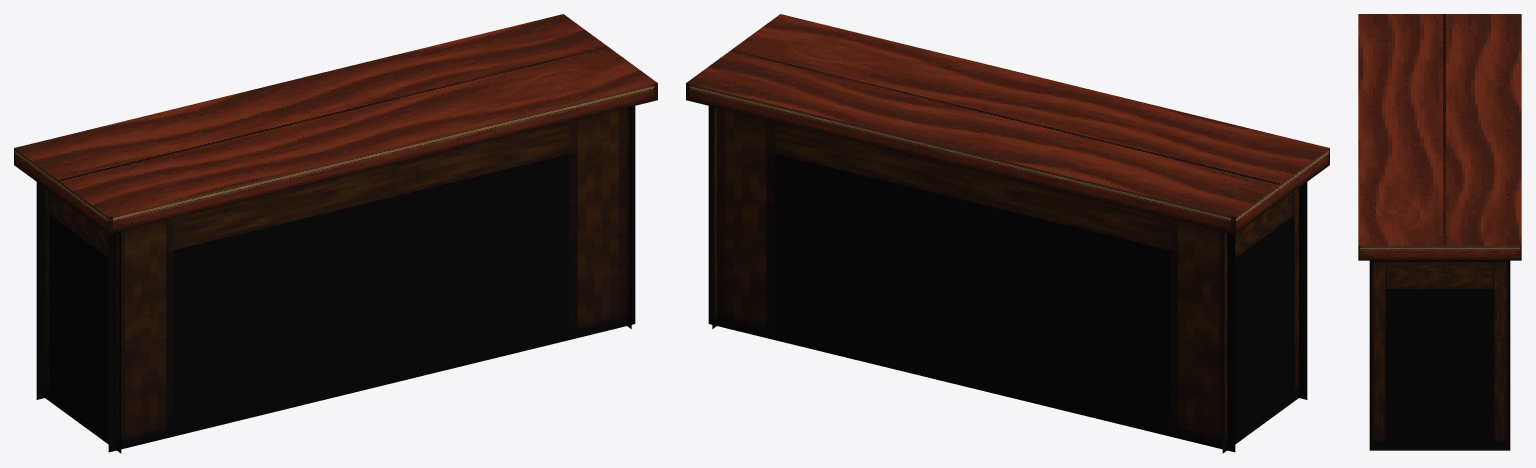
File: prop_table-av-2.glb
The picture shows the model from 3 angles, left to right: view 1: azimuth 30°, elevation 25°; view 2: azimuth 150°, elevation 25°; view 3: azimuth 270°, elevation 25°; orthographic projection. The views are drawn at different scales.
Visible parts, largest first — view 1: prop_table-av-2; view 2: prop_table-av-2; view 3: prop_table-av-2.
Boxes of the visible parts, x1=… form: prop_table-av-2: x1=14, y1=14, x2=657, y2=453; prop_table-av-2: x1=686, y1=14, x2=1329, y2=453; prop_table-av-2: x1=1358, y1=14, x2=1521, y2=450.
Size of the model in its own units: 1.68 by 0.72 by 0.5.
Materials: 2 (2 with a texture image).
